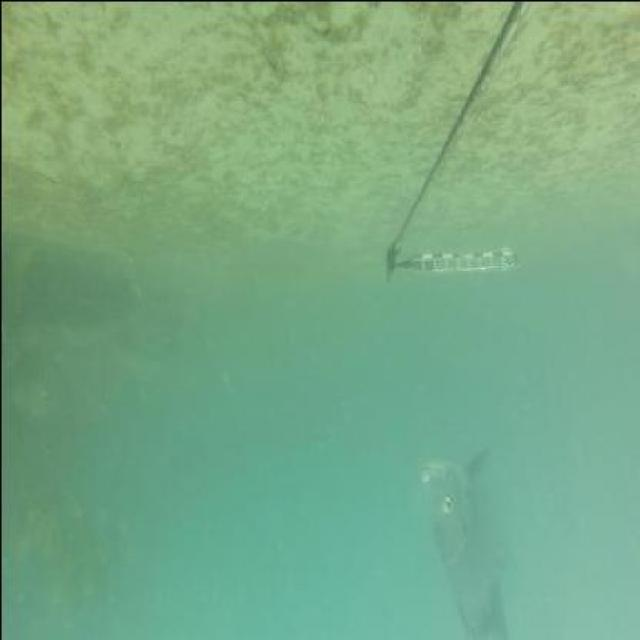acanthopagrus_palmaris: (414, 440, 514, 638)
